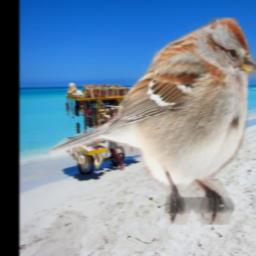Sparrow: (50, 17, 256, 225)
